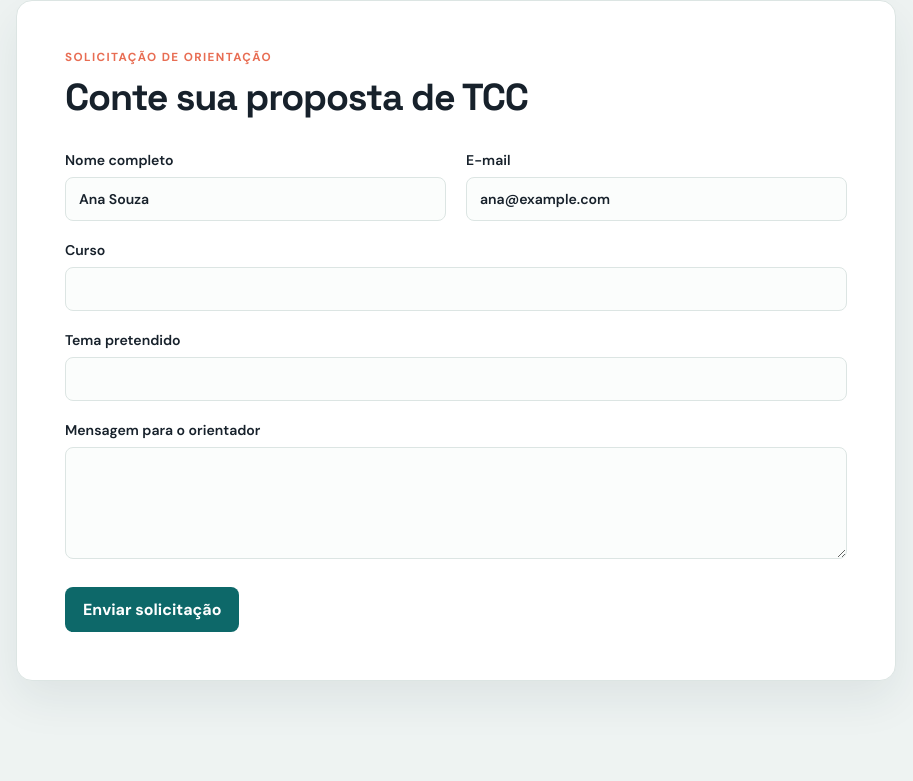
it: SolicitacaoForm › exibe mensagem de solicitação duplicada quando a API retorna 409
In the field labelled "Curso": (456, 289) [65,267,847,311], type "ADS"
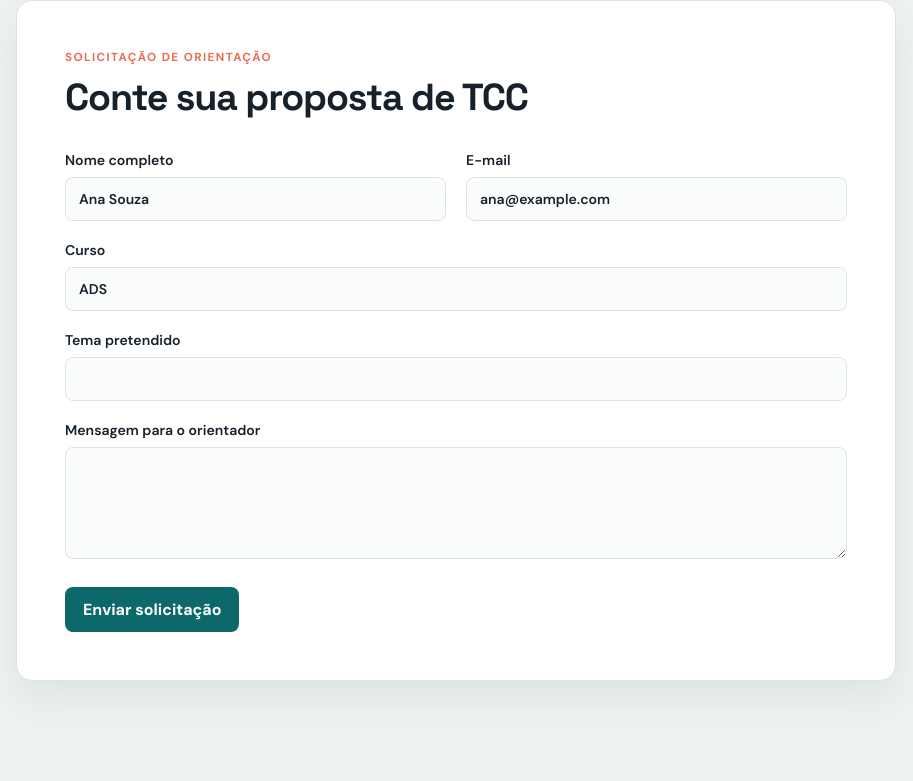
In the field labelled "Tema pretendido": (456, 379) [65,357,847,401], type "Tema de teste"
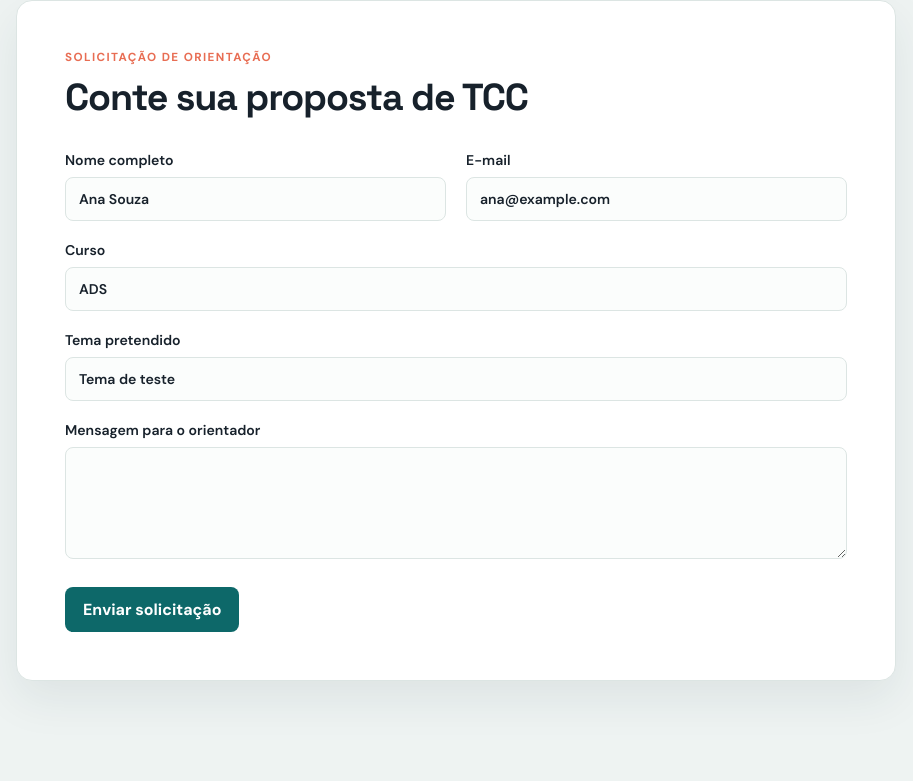
In the text box labelled "Mensagem para o orientador": (456, 503) [65,447,847,559], type "Mensagem válida de teste"
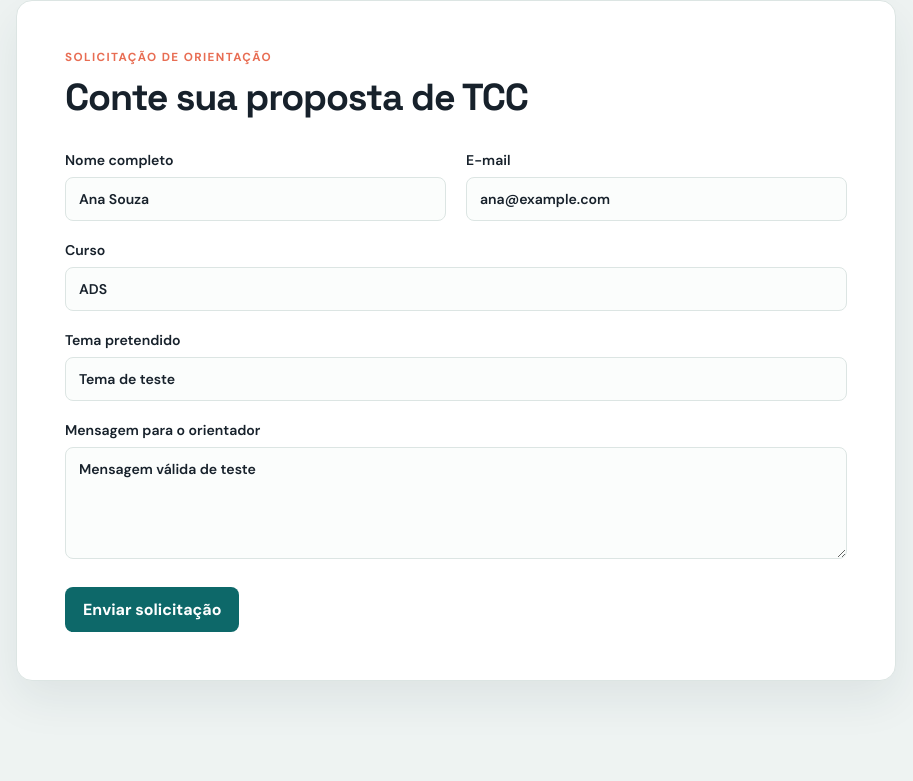
Click the button "Enviar solicitação": (152, 610) [65,587,239,632]
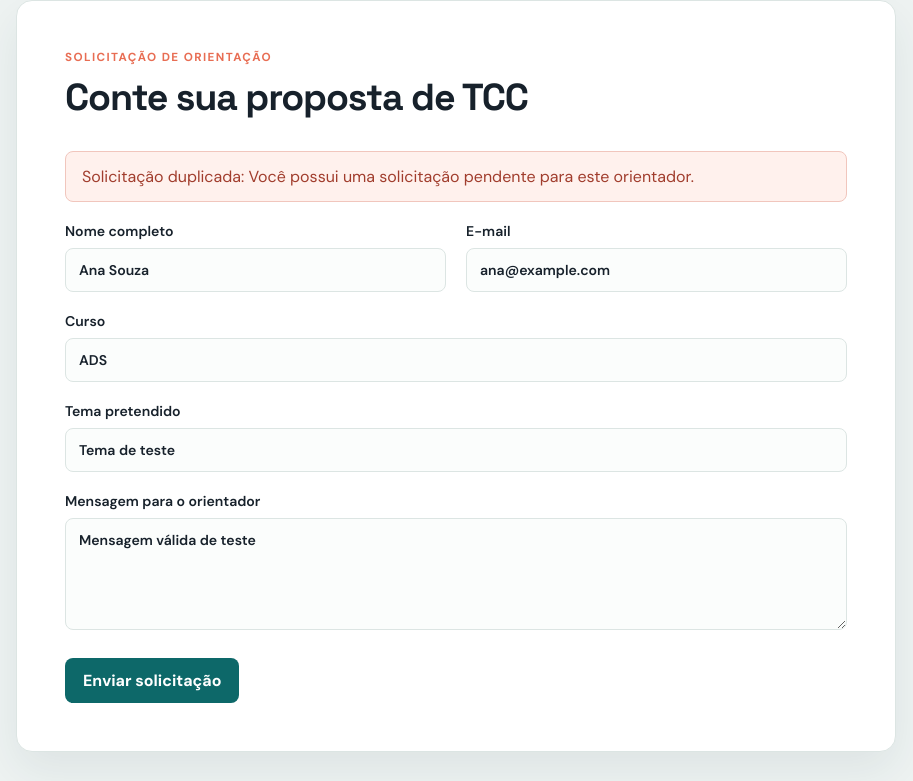
Expected: the message shows "Solicitação duplicada: Você possui uma solicitação pendente para este orientador.", [82,166,694,187]
